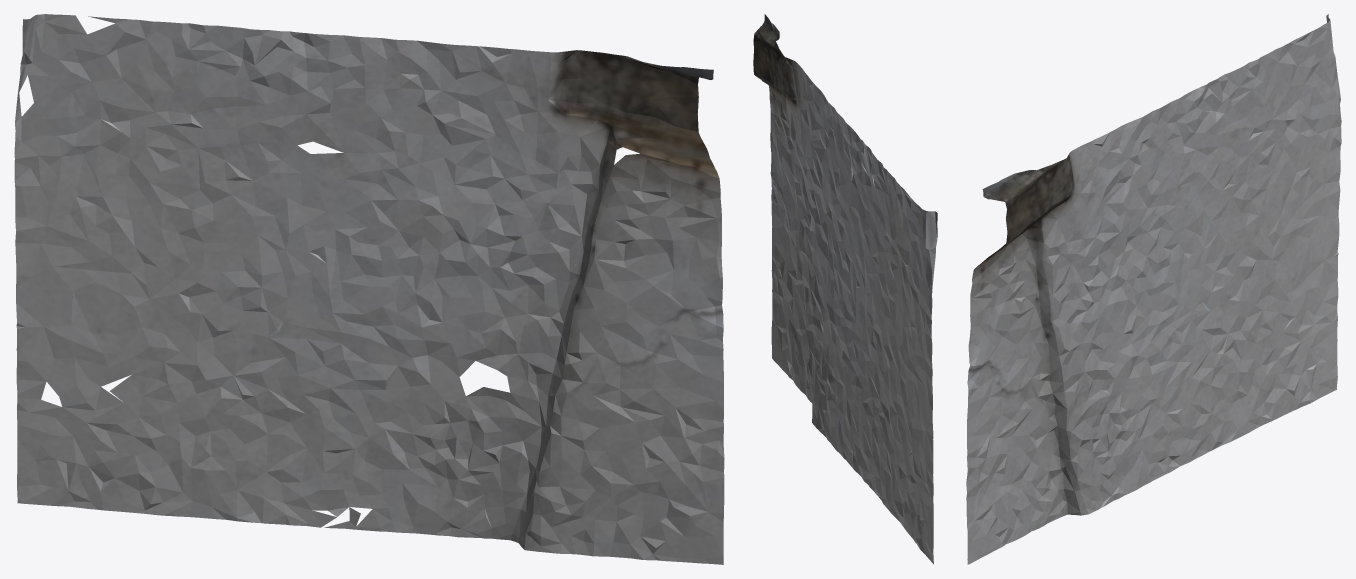
The picture shows the model from 3 angles, left to right: view 1: azimuth 30°, elevation 25°; view 2: azimuth 150°, elevation 25°; view 3: azimuth 270°, elevation 25°; orthographic projection. The views are drawn at different scales.
Bounding box in the file's own units: 0.8373 × 0.8374 × 0.7582.
Materials: 3 (3 with a texture image).
